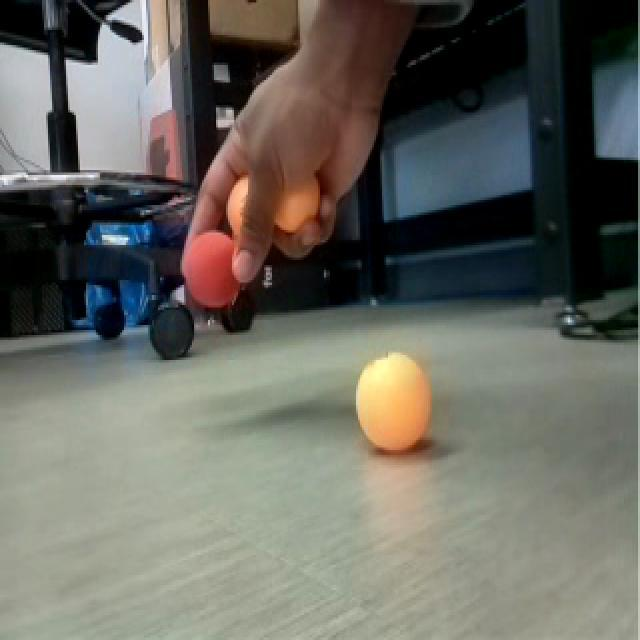oball: (357, 344, 432, 456), (180, 226, 243, 306), (269, 161, 324, 231)
